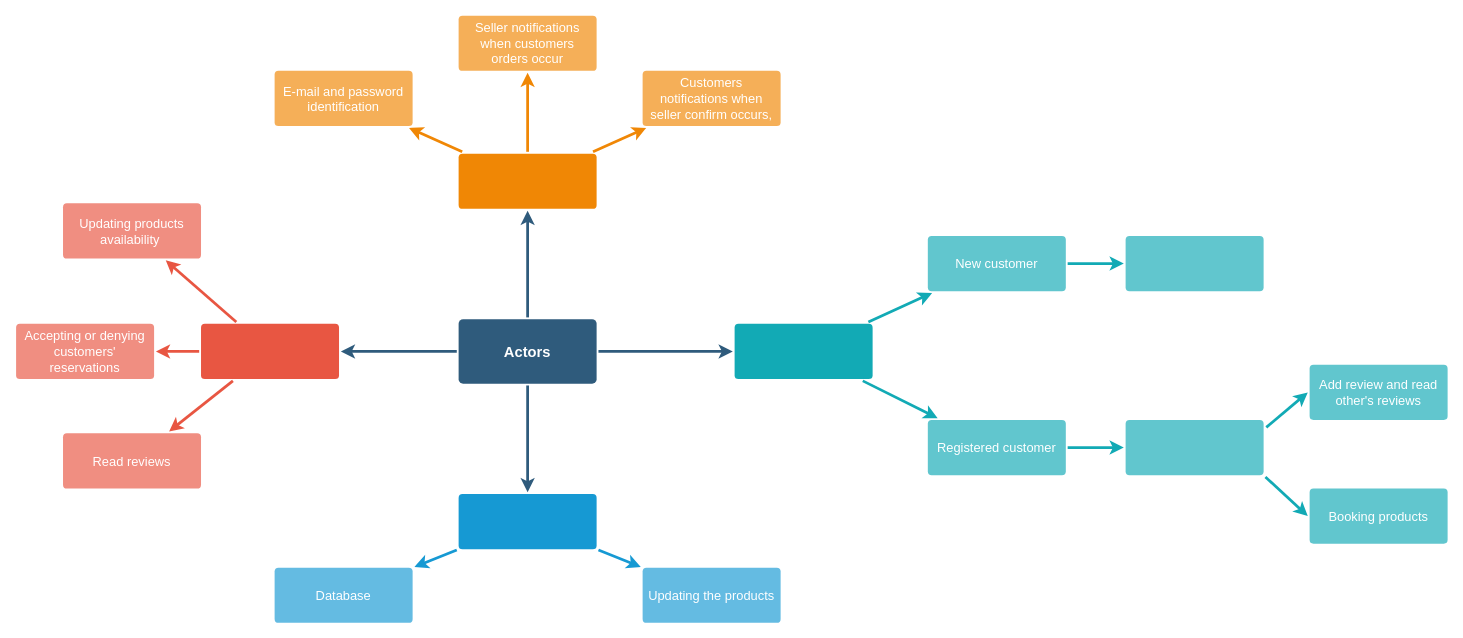
Some shapes in this 1463 by 638 pixel diagram are drawn without their labels. Each missing label, with the centre of its shape:
"Customer" belongs at point (803, 351).
"External service" belongs at point (527, 180).
"Internal service" belongs at point (527, 521).
"Seller" belongs at point (270, 351).
"Sign in" belongs at point (1194, 447).
"Sign up" belongs at point (1194, 263).
